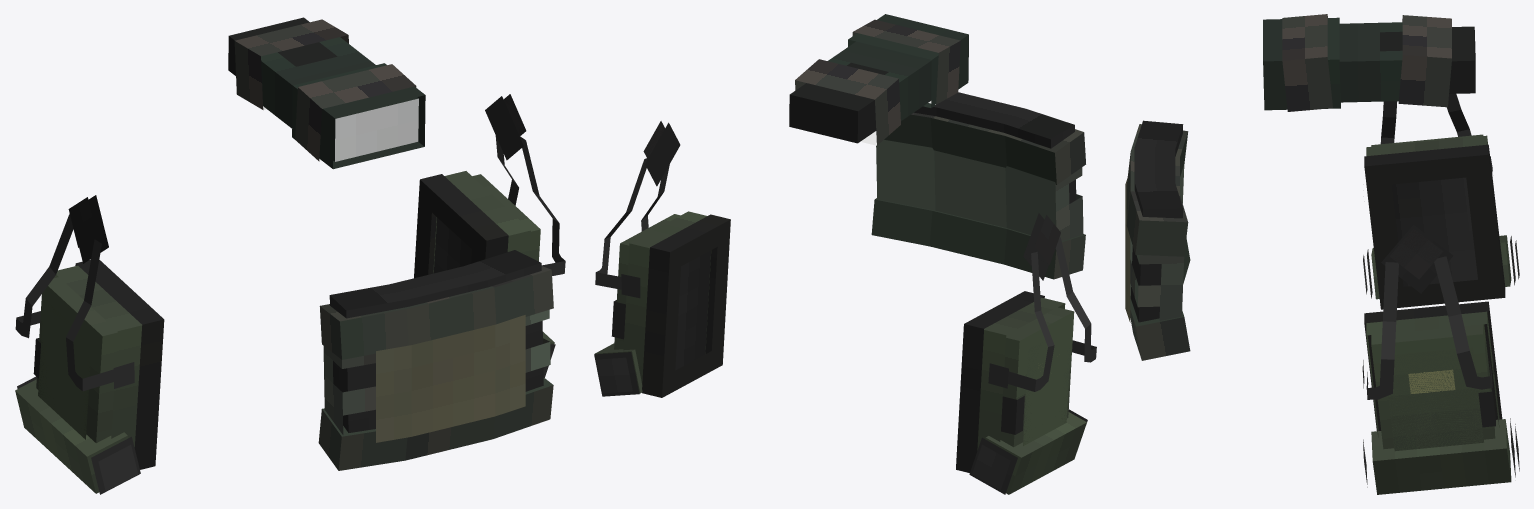
The model's file is helmet_stuff_fast.obj.
The picture shows the model from 3 angles, left to right: view 1: azimuth 30°, elevation 25°; view 2: azimuth 150°, elevation 25°; view 3: azimuth 270°, elevation 25°; orthographic projection. The views are drawn at different scales.
Parts seen in each view (by area): view 1: cube, JARHEAD; view 2: cube, JARHEAD; view 3: JARHEAD, cube.
Part boxes in pixels (bbox=[...]): cube: bbox=[15, 17, 565, 470]; JARHEAD: bbox=[15, 171, 555, 494]; cube: bbox=[595, 14, 1096, 391]; JARHEAD: bbox=[594, 211, 1087, 494]; JARHEAD: bbox=[1363, 134, 1519, 494]; cube: bbox=[1125, 14, 1493, 399].
Bounding box in the file's own units: 0.7288 × 0.5494 × 0.5478.
